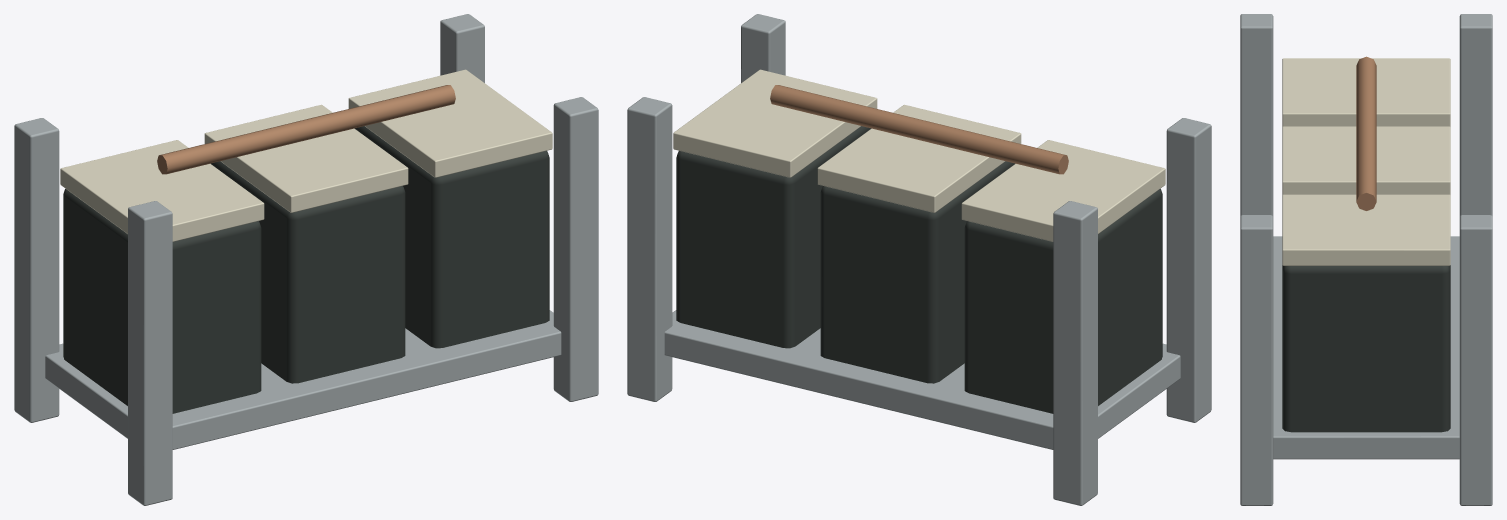
File: off-grid-power-and-controls-deep-cycle-battery-bank-3ac6cabd__2980.glb
3 renders of one model, left to right at view 1: azimuth 30°, elevation 25°; view 2: azimuth 150°, elevation 25°; view 3: azimuth 270°, elevation 25°, orthographic. The views are drawn at different scales.
Visible parts, largest first — view 1: deep-cycle-battery-bank; view 2: deep-cycle-battery-bank; view 3: deep-cycle-battery-bank.
Part boxes in pixels (x1,y1,x2,y2): deep-cycle-battery-bank: (14, 14, 598, 505); deep-cycle-battery-bank: (627, 14, 1211, 505); deep-cycle-battery-bank: (1240, 14, 1492, 505).
Size of the model in its own units: 0.695 by 0.42 by 0.345.
